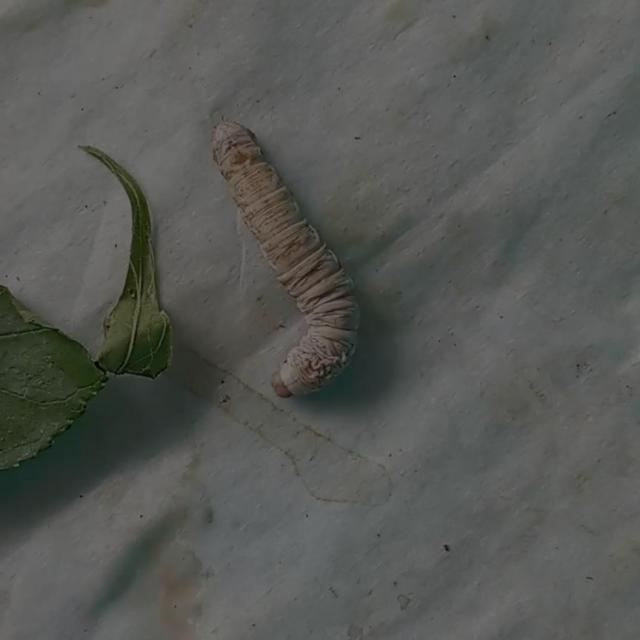Grasserie: (187, 100, 443, 433)
